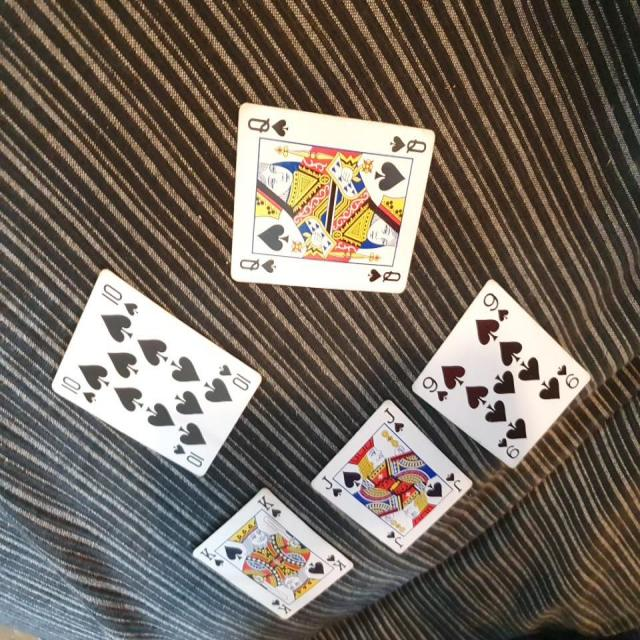10 Spades: (48, 264, 266, 490)
9 Spades: (410, 270, 591, 473)
J Spades: (309, 394, 474, 556)
K Spades: (192, 490, 356, 629)
Q Spades: (220, 100, 433, 305)
